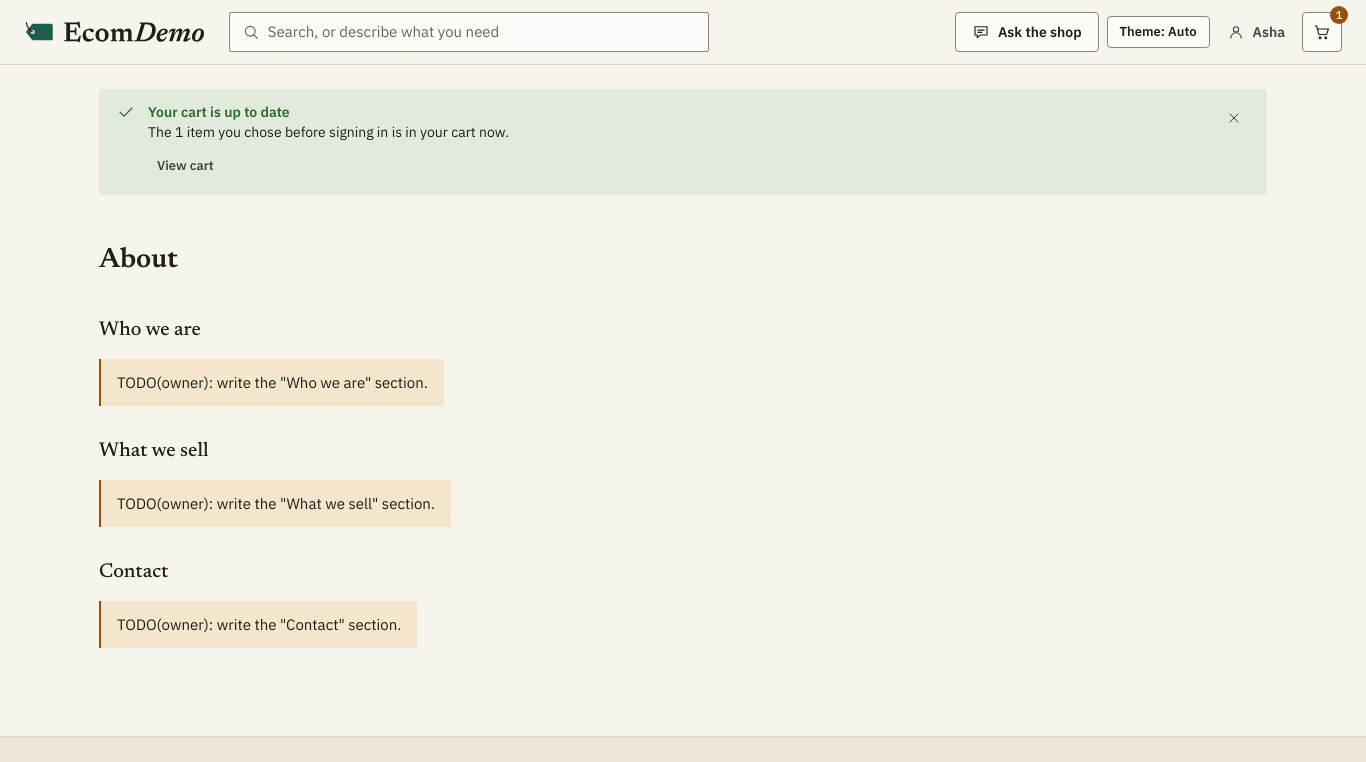
moving the guest cart into the account on sign-in › lets the report go
Expected: the heading "About" is shown, [99,243,178,277]
Expected: the text "Your cart is up to date" is shown, [148,103,290,121]
Click the button named "Dismiss": (1234, 118) [1218,102,1250,134]
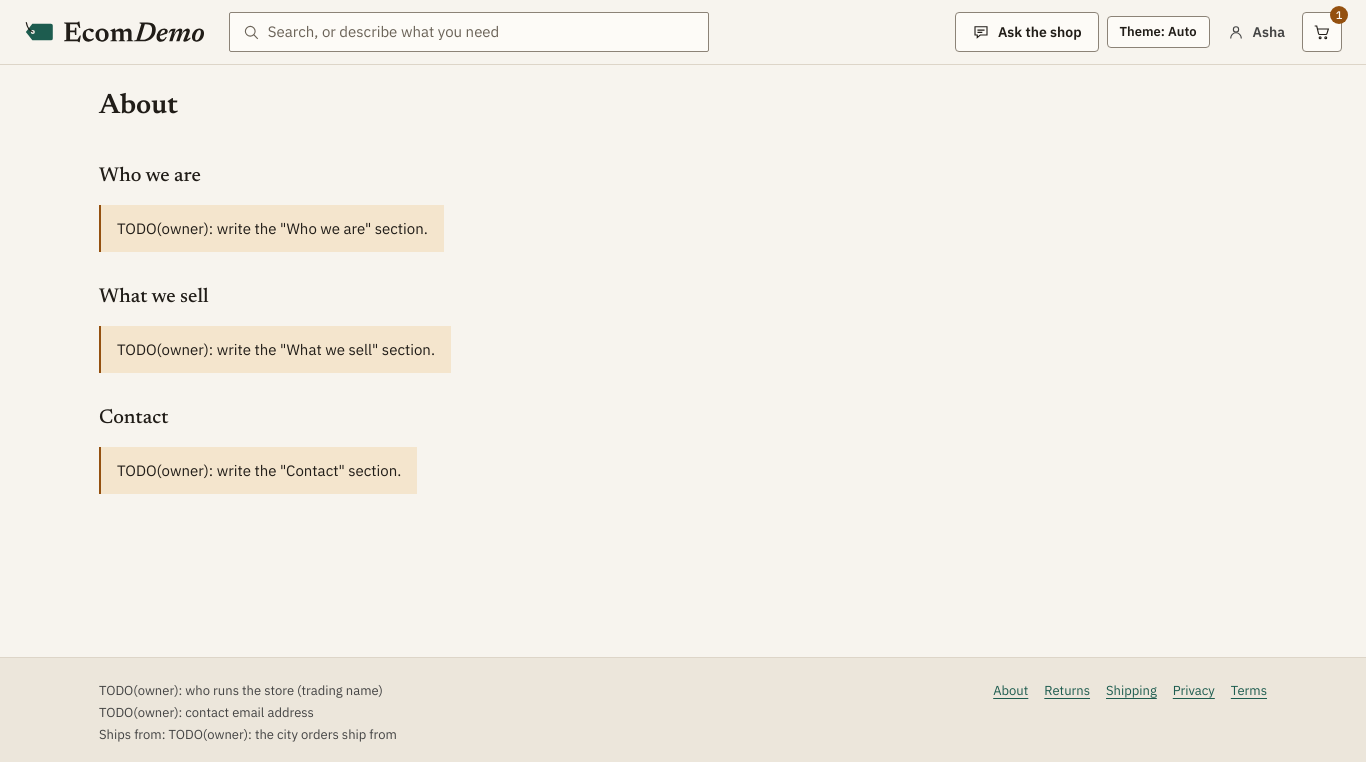
Result: the text "Your cart is up to date" is gone
